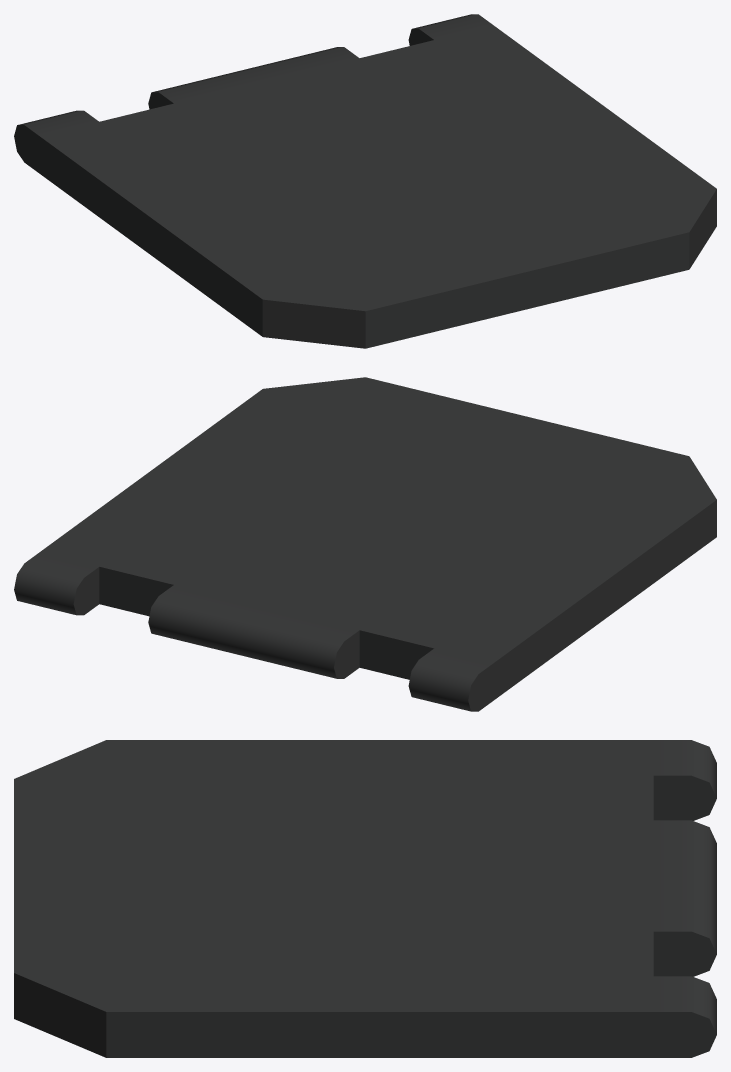
File: Laptop_001_Monitor_003.fbx
3 renders of one model, top to bottom at view 1: azimuth 30°, elevation 25°; view 2: azimuth 150°, elevation 25°; view 3: azimuth 270°, elevation 25°, orthographic. The views are drawn at different scales.
Visible parts, largest first — view 1: Laptop_001_Monitor_003; view 2: Laptop_001_Monitor_003; view 3: Laptop_001_Monitor_003.
Boxes of the visible parts, left/top/right/bottom form: Laptop_001_Monitor_003: left=14, top=14, right=716, bottom=348; Laptop_001_Monitor_003: left=14, top=377, right=716, bottom=711; Laptop_001_Monitor_003: left=14, top=740, right=716, bottom=1057.
Size of the model in its own units: 21.72 by 23.73 by 1.71.
